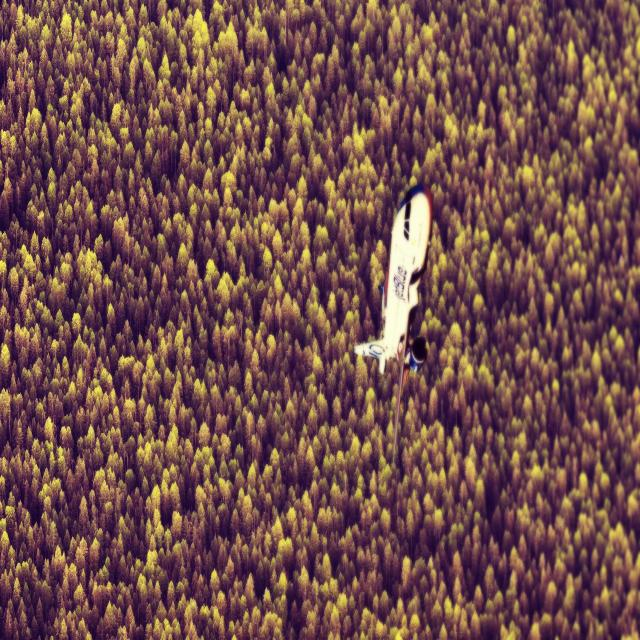airplane: (353, 182, 433, 463)
